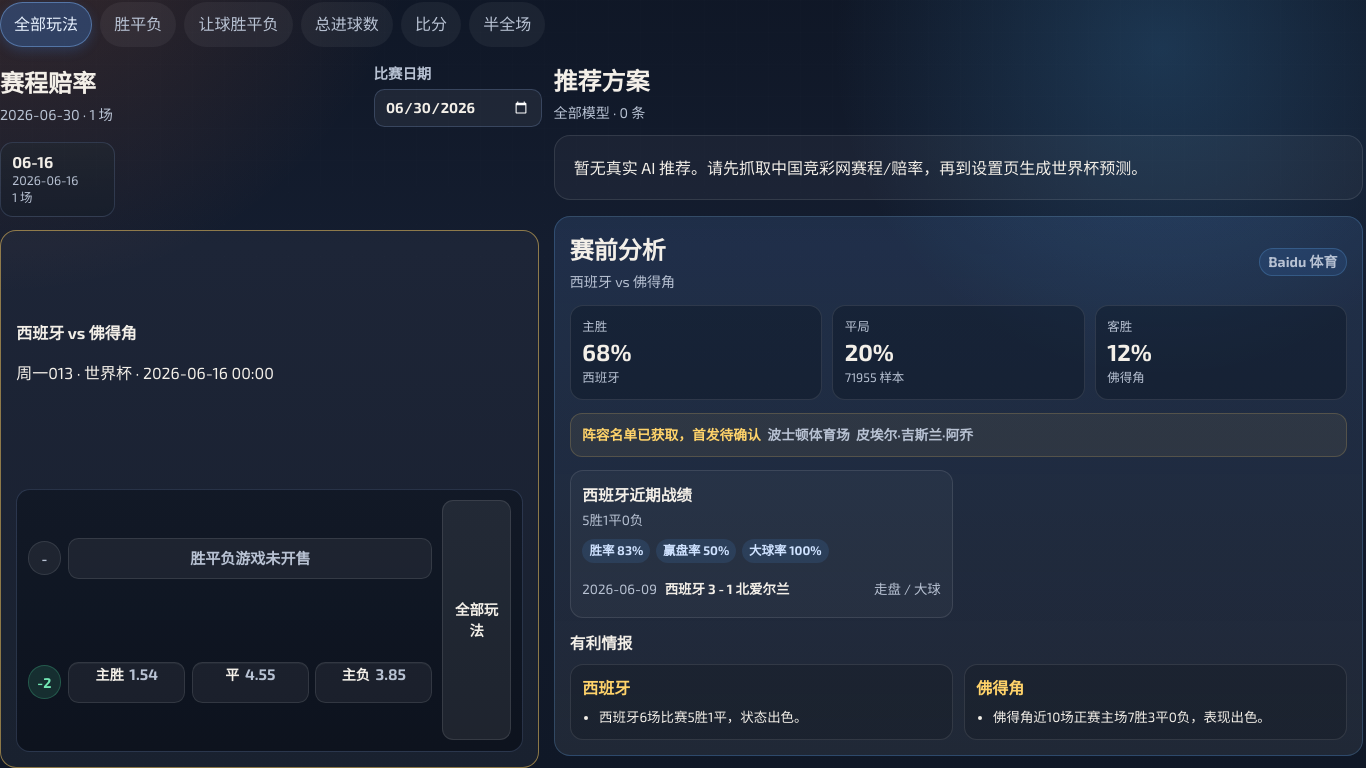
Test: WorldCupPage odds display › shows a closed win-draw-win row when that play has no odds
(page scrolled)
Expected: the text "胜平负游戏未开售" is shown, 68,538 -> 432,578
Expected: the text "-2" is shown, 28,665 -> 61,699
What coordinates should you click on to do the following:
click the button with aria-label "西班牙 vs 佛得角 查看全部赔率"
I would click on:
 (44, 558)
Its box is 16,489 -> 523,752.
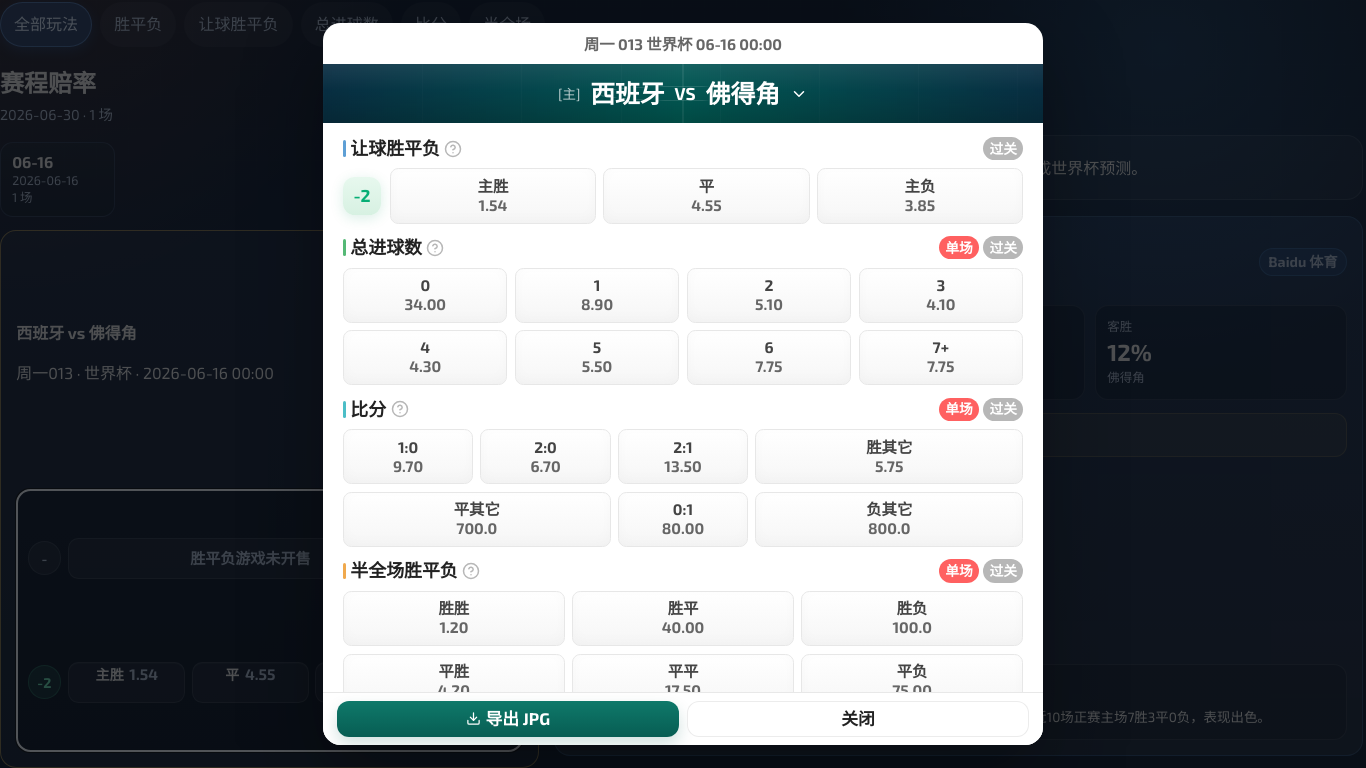
Now the heading "让球胜平负" is shown, box 350,138 -> 440,159
Now the text "主胜" is shown, box 478,178 -> 508,195
